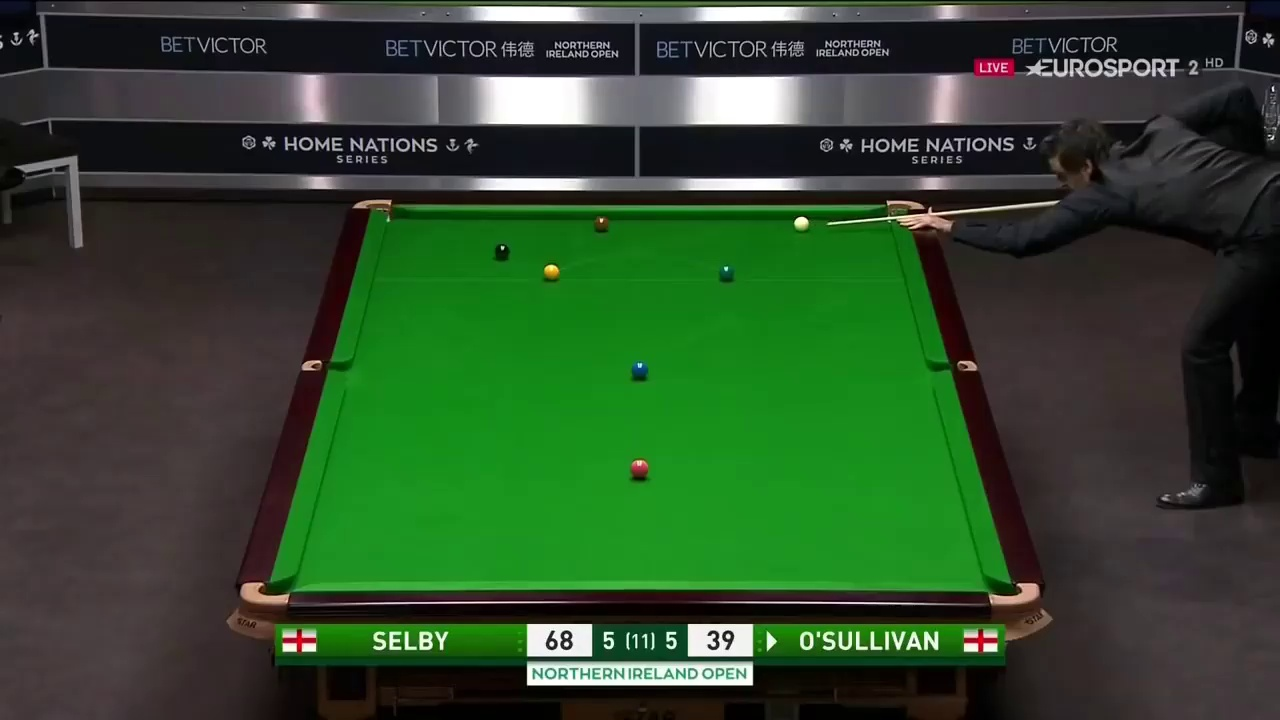ball: (628, 460, 650, 476), (542, 264, 561, 282), (493, 242, 511, 260), (631, 364, 648, 382), (792, 214, 811, 230), (593, 216, 611, 230), (720, 265, 734, 281)
